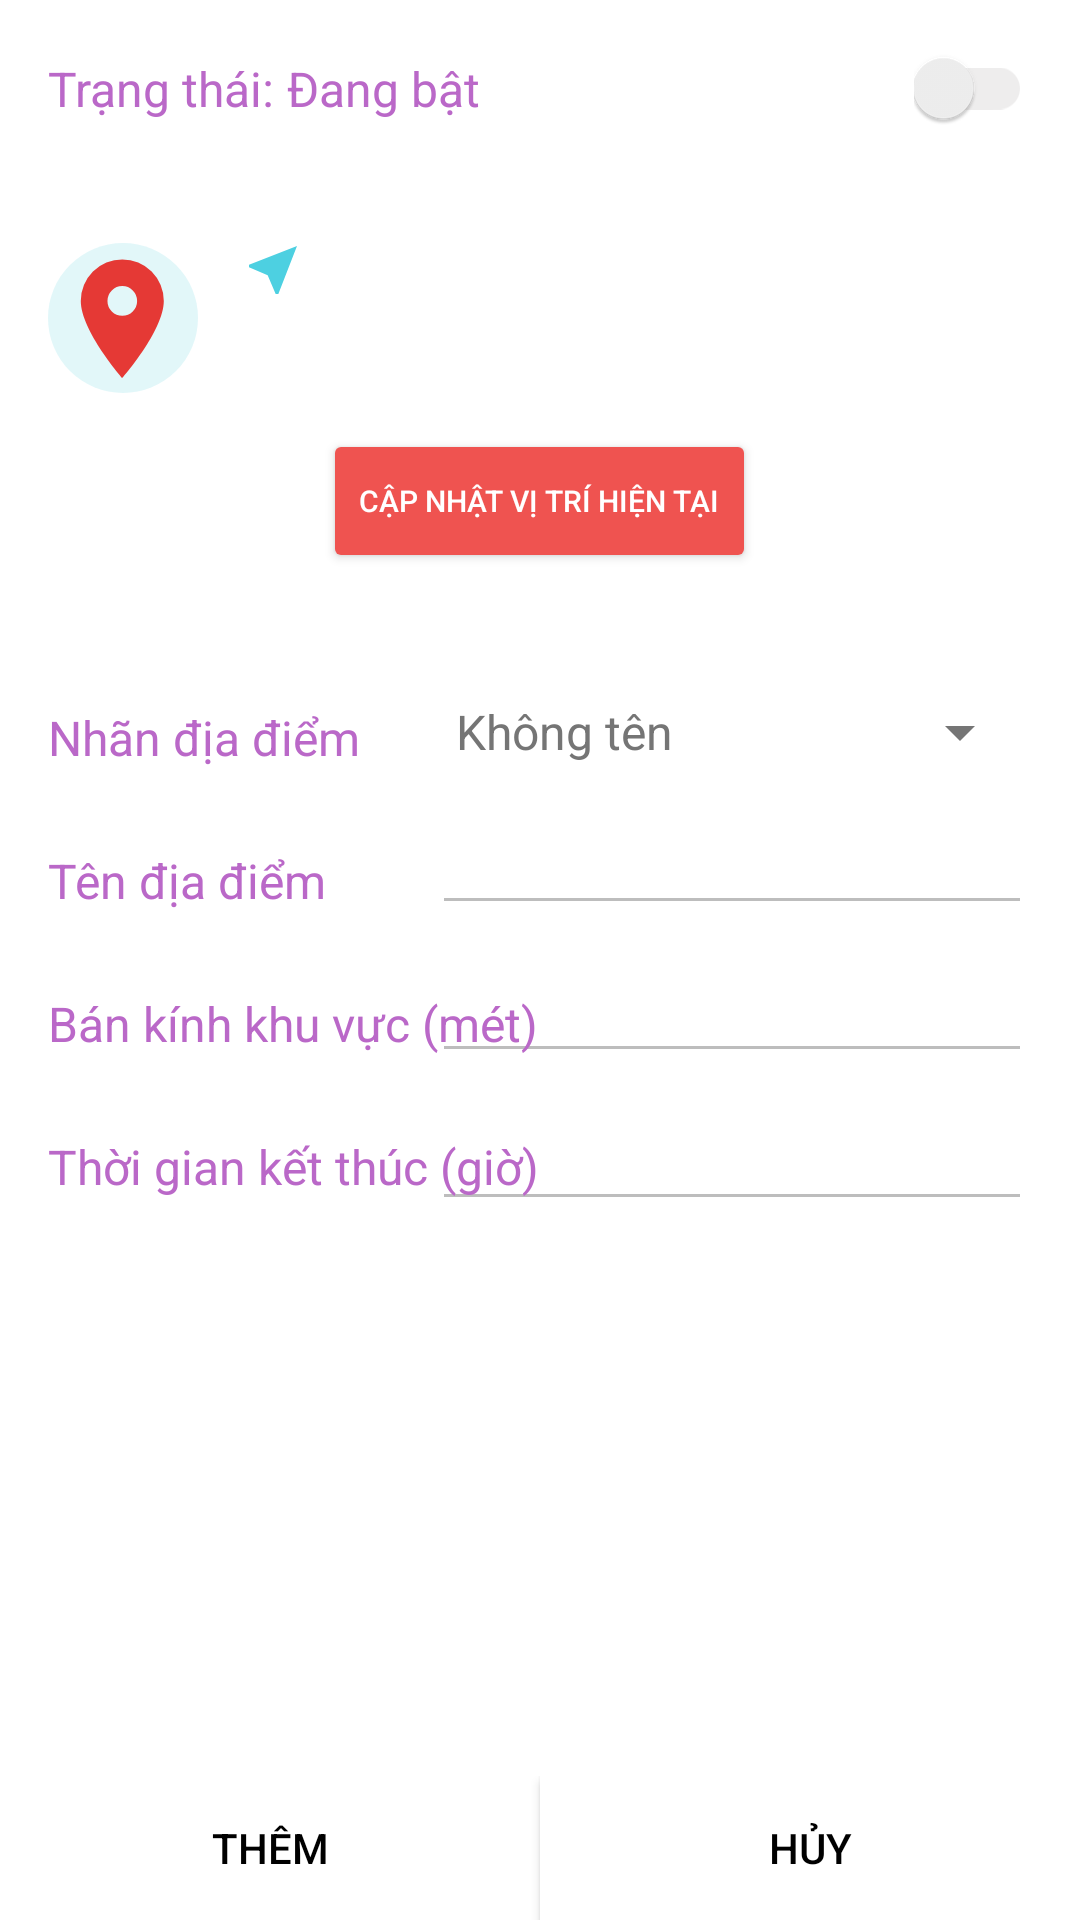

Screen size 1080x1920. Icon name, then its center in pixels as (x=x, y=y):
marker: (x=123, y=318)
near me: (x=273, y=270)
